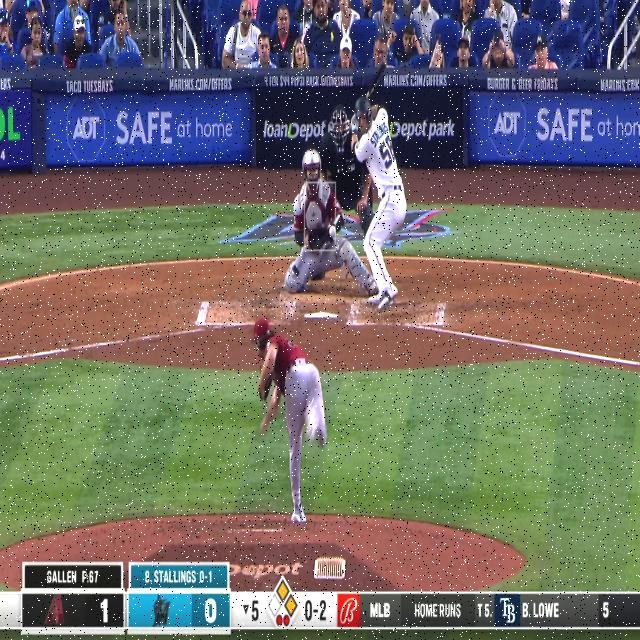baseball: (328, 224, 337, 240)
